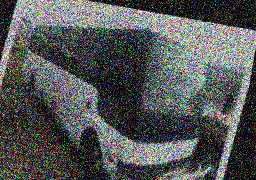bus: (0, 0, 235, 180)
